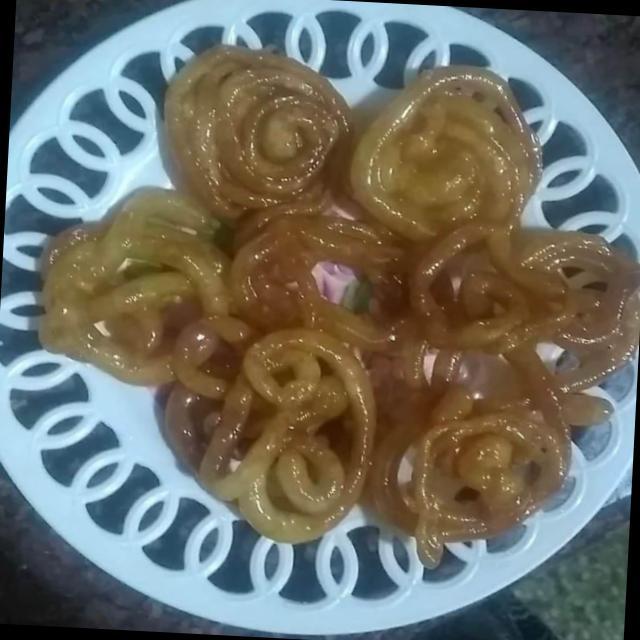jalebi: (31, 42, 604, 561)
